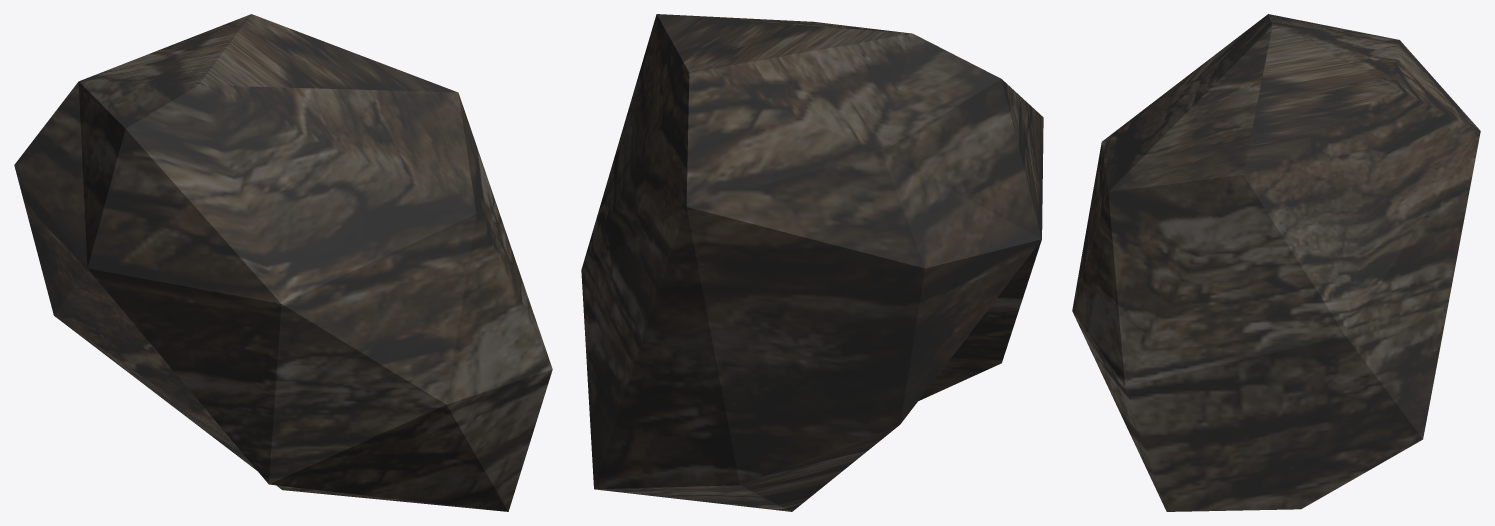
3 renders of one model, left to right at view 1: azimuth 30°, elevation 25°; view 2: azimuth 150°, elevation 25°; view 3: azimuth 270°, elevation 25°, orthographic. The views are drawn at different scales.
Parts seen in each view (by area): view 1: AsteroidB1; view 2: AsteroidB1; view 3: AsteroidB1.
Boxes of the visible parts, x1,y1,x2,y2 form: AsteroidB1: [14, 14, 552, 511]; AsteroidB1: [581, 14, 1043, 511]; AsteroidB1: [1072, 14, 1480, 511].
Size of the model in its own units: 1.32 by 1.47 by 1.42.
1 material, 1 textured.
